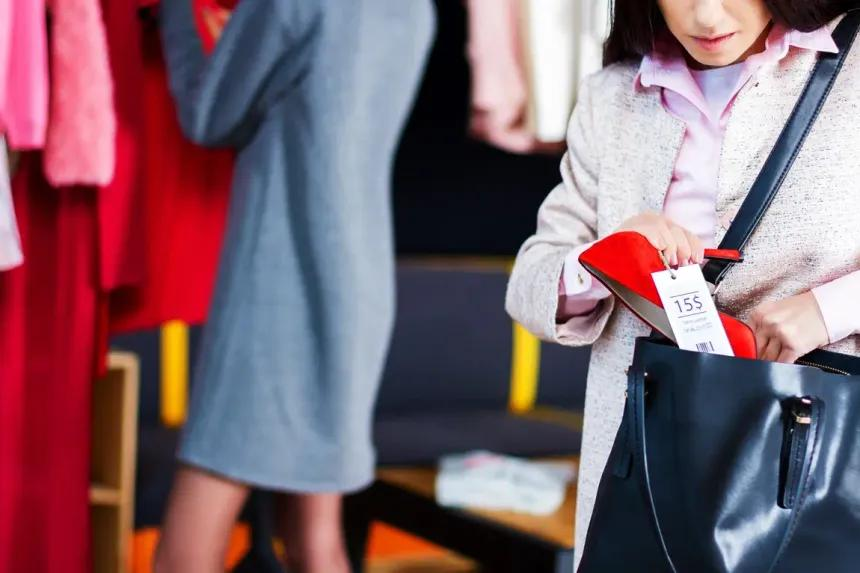shoplifting: (527, 39, 860, 498)
